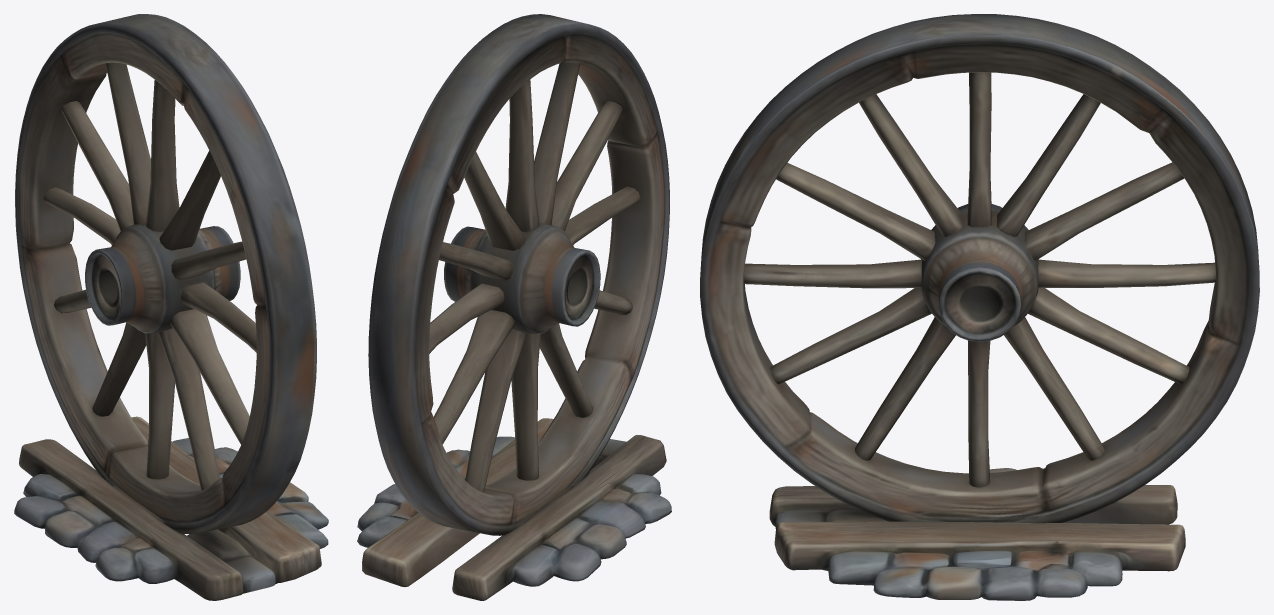
Rendered from SM_Env_SohoCartWheel.fbx.
The picture shows the model from 3 angles, left to right: view 1: azimuth 30°, elevation 25°; view 2: azimuth 150°, elevation 25°; view 3: azimuth 270°, elevation 25°; orthographic projection. The views are drawn at different scales.
Parts seen in each view (by area): view 1: SM_Env_SohoCartWheel; view 2: SM_Env_SohoCartWheel; view 3: SM_Env_SohoCartWheel.
Boxes of the visible parts, x1,y1,x2,y2 form: SM_Env_SohoCartWheel: [14, 14, 328, 600]; SM_Env_SohoCartWheel: [357, 14, 671, 600]; SM_Env_SohoCartWheel: [700, 14, 1259, 600].
Bounding box in the file's own units: 18.18 × 35.33 × 36.
Materials: 1 (1 with a texture image).
